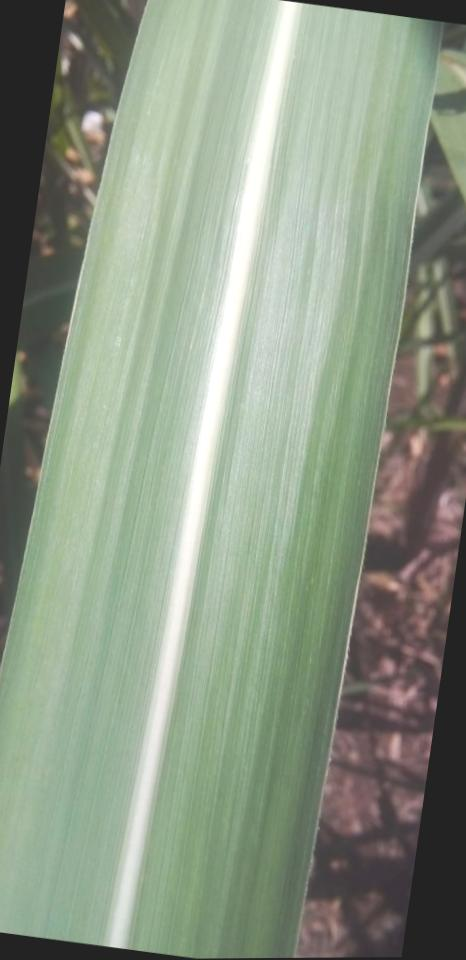Healthy: (0, 0, 439, 958)
